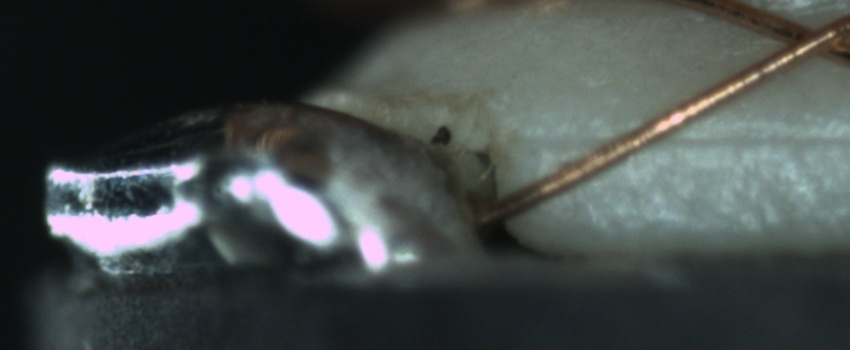CL: (762, 6, 848, 69)
DL: (530, 104, 850, 172)
